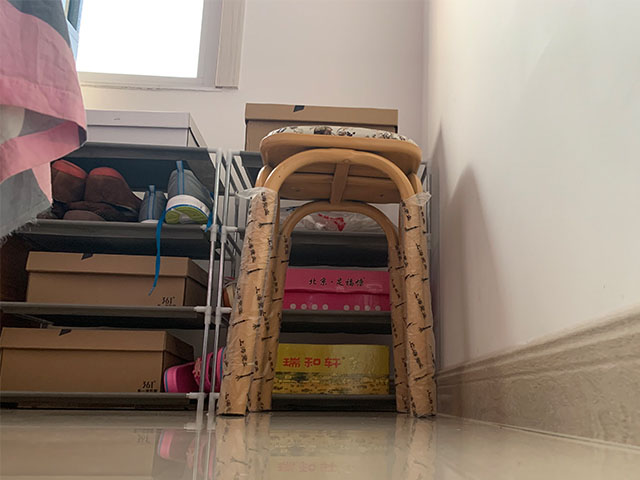stool: (212, 122, 442, 419)
